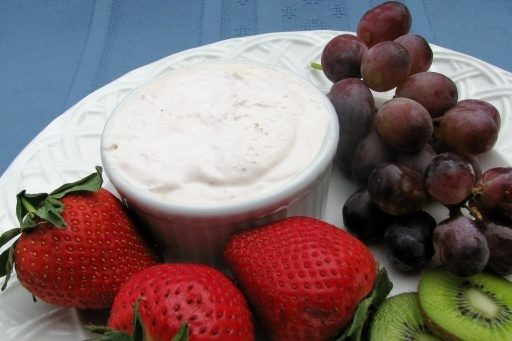background: (0, 0, 410, 182), (82, 33, 266, 109)
